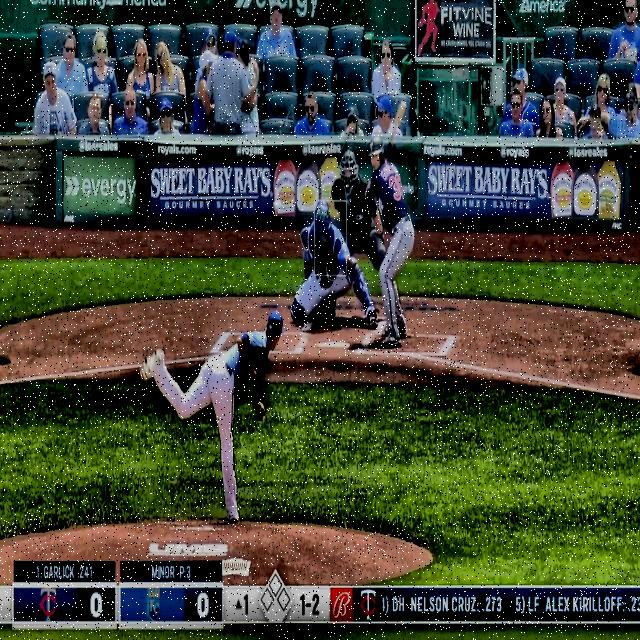baseball: (272, 198, 282, 212)
